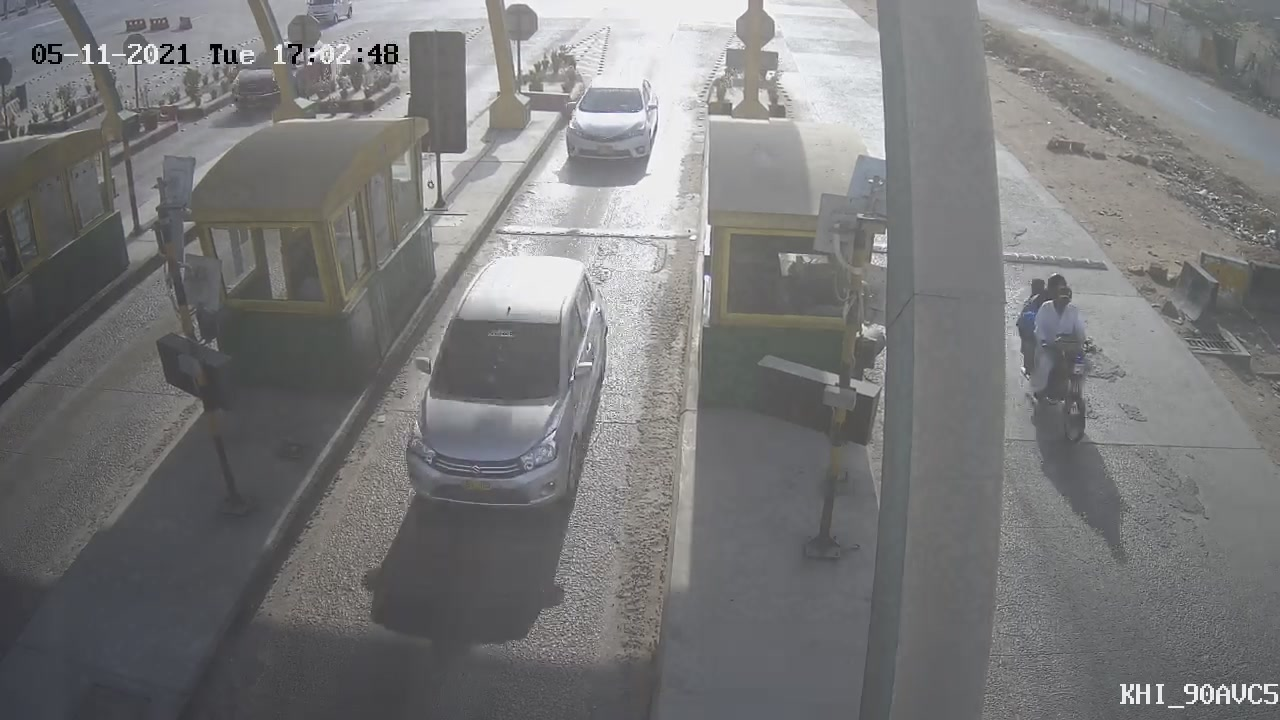F1: (383, 239, 629, 531), (537, 60, 677, 187)
